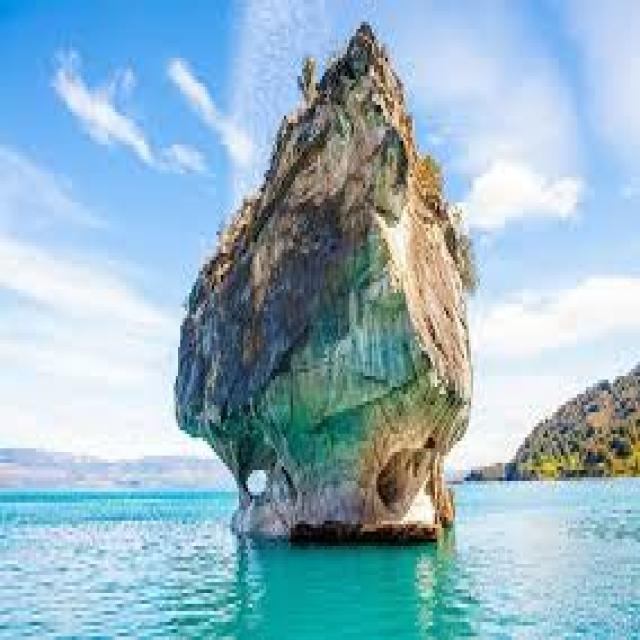Metamorphic: (156, 22, 476, 557)
